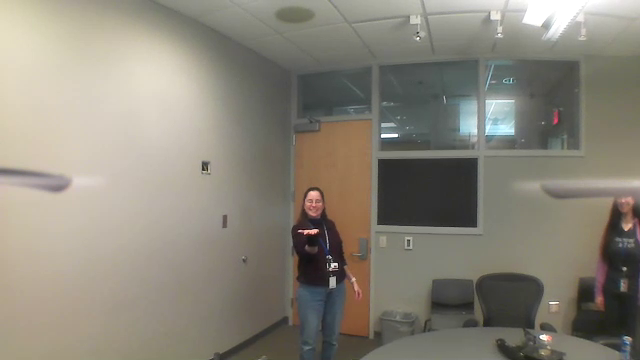land: (296, 227, 320, 239)
